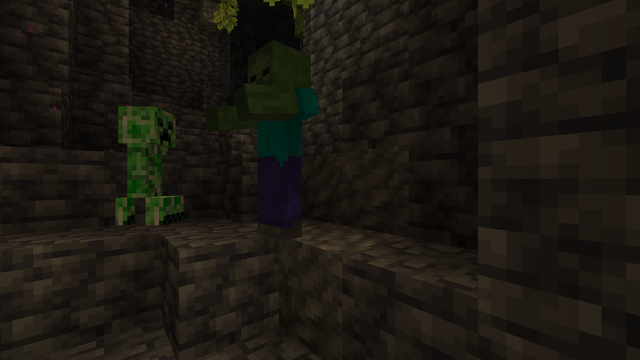creepers: (121, 97, 175, 227)
zombies: (242, 40, 316, 244)
